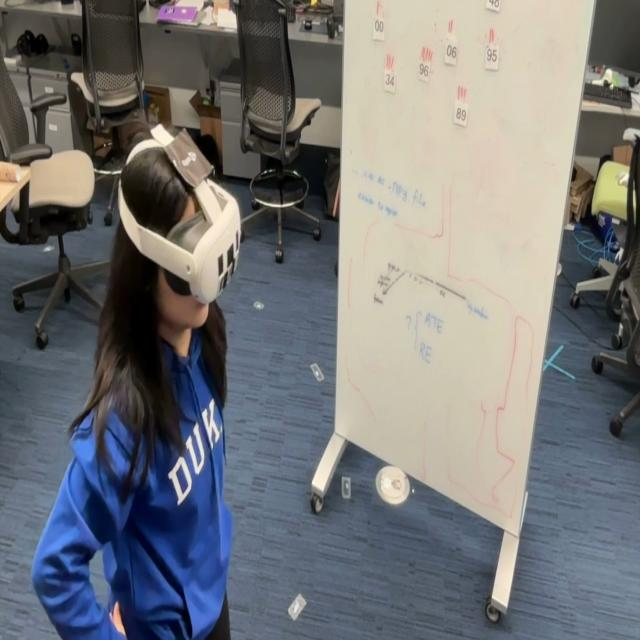Headset: (116, 130, 242, 306)
UnityLogo: (165, 132, 218, 190)
